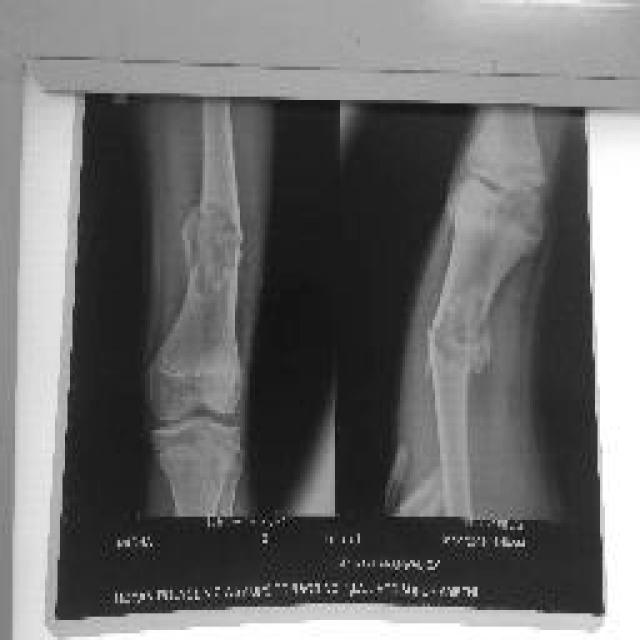bone-cancer: (425, 280, 495, 407), (182, 200, 242, 308)
